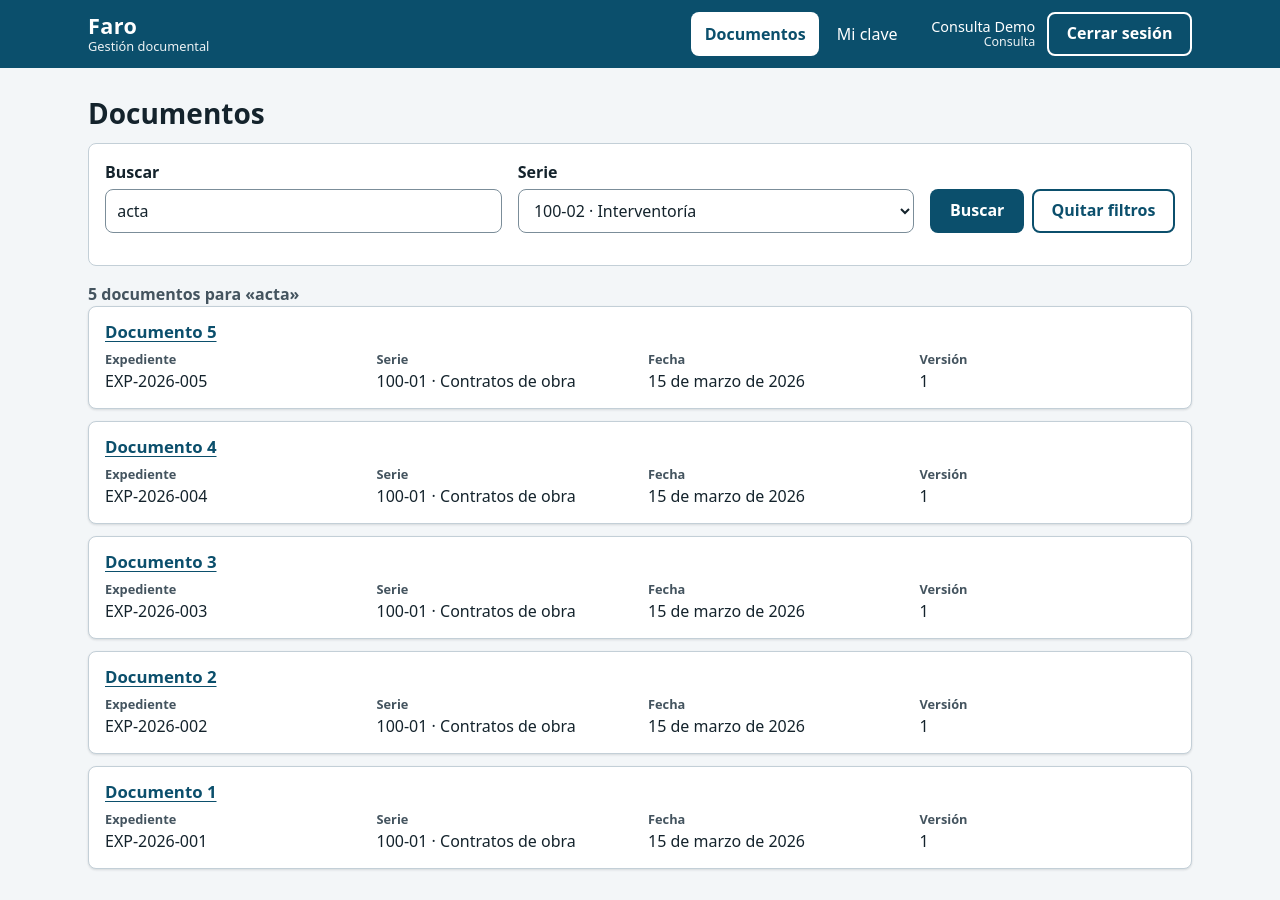
Scenario: listado de documentos › búsqueda › «Quitar filtros» limpia búsqueda y serie
Expected: the text "5 documentos para «acta»" is shown, [88,283,300,305]
Click the button "Quitar filtros": (1104, 211) [1032,189,1175,233]
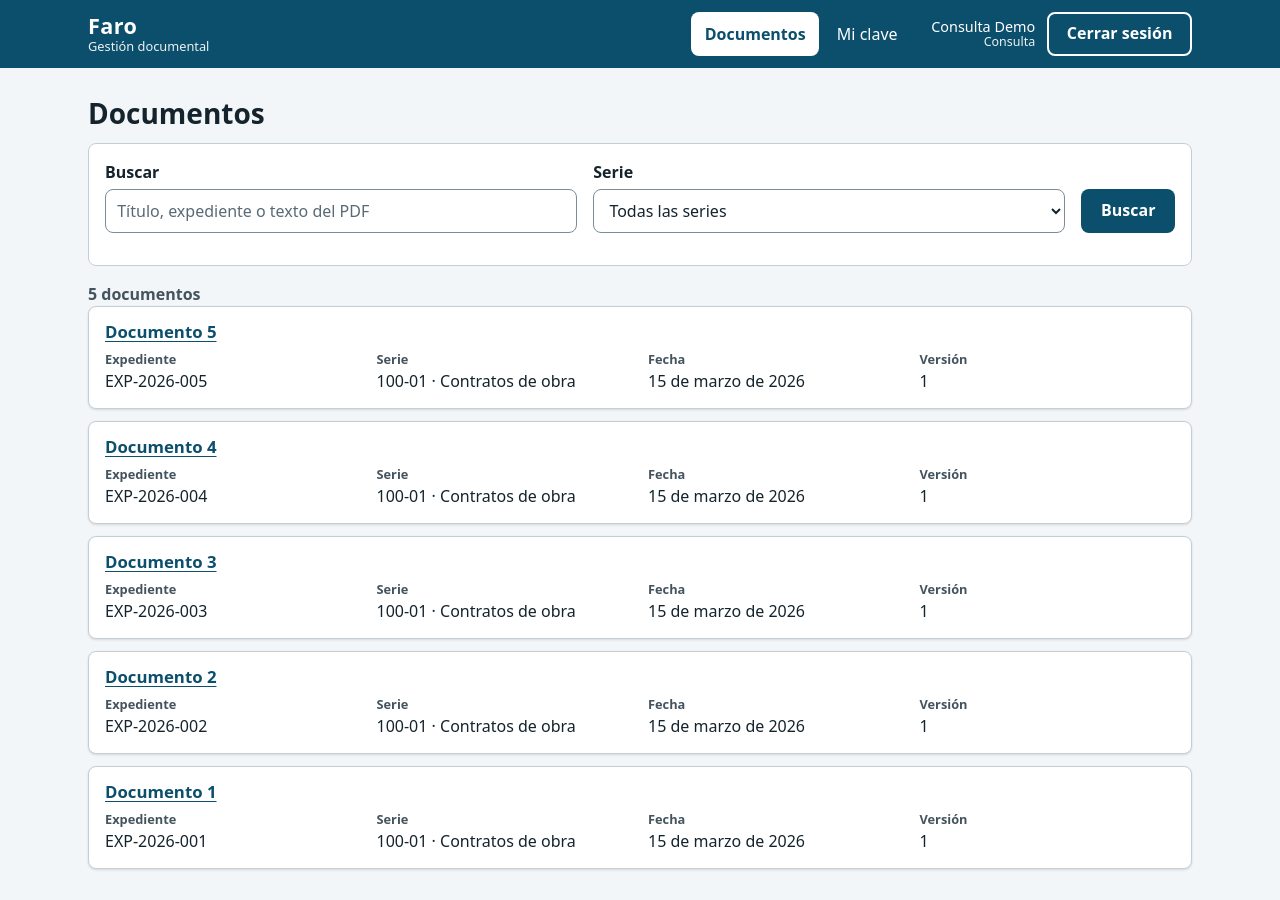
Expected: the search field labelled "Buscar" is empty, [105,189,577,233]
Expected: the dropdown labelled "Serie" shows "Todas las series", [593,189,1065,233]
Expected: the button "Quitar filtros" is gone
